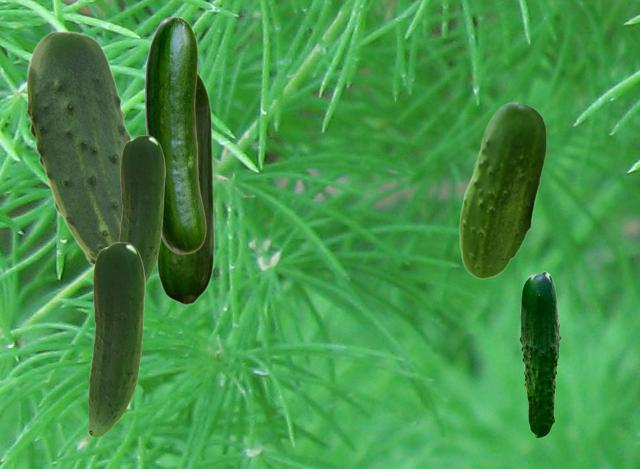cucumber: (26, 30, 132, 267), (459, 102, 545, 278), (144, 16, 205, 253), (156, 72, 214, 304), (88, 242, 144, 436), (118, 135, 164, 284), (519, 271, 560, 437)
